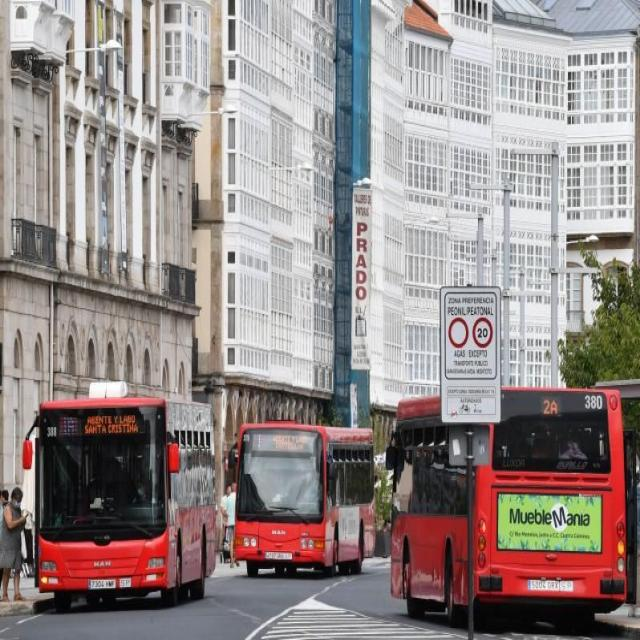BUS: (390, 385, 636, 635), (29, 397, 221, 609), (234, 418, 377, 578)
